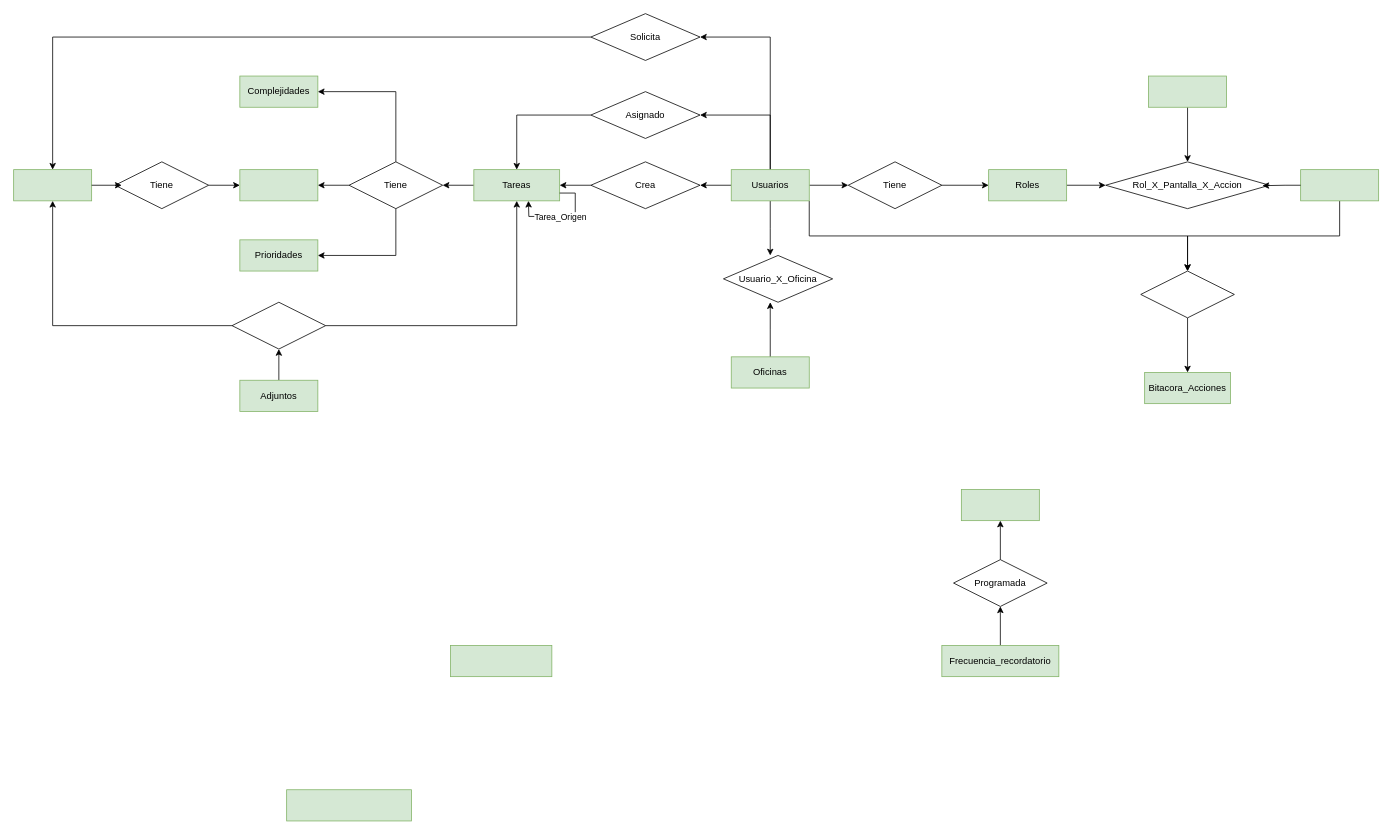
Image size: 1392x835. Some labels were removed from this diagram. Here are the shapes that lost their labels. From the top down, the centre of each, then its label:
At point (1187, 91): "Pantallas".
At point (52, 185): "Permisos".
At point (278, 185): "Estados".
At point (1339, 185): "Acciones".
At point (1187, 294): "Registro".
At point (278, 325): "Pertenece".
At point (1000, 505): "Notificaciones".
At point (501, 661): "Tipos_documentos".
At point (348, 805): "Bitacora_Cambios_Estados".
